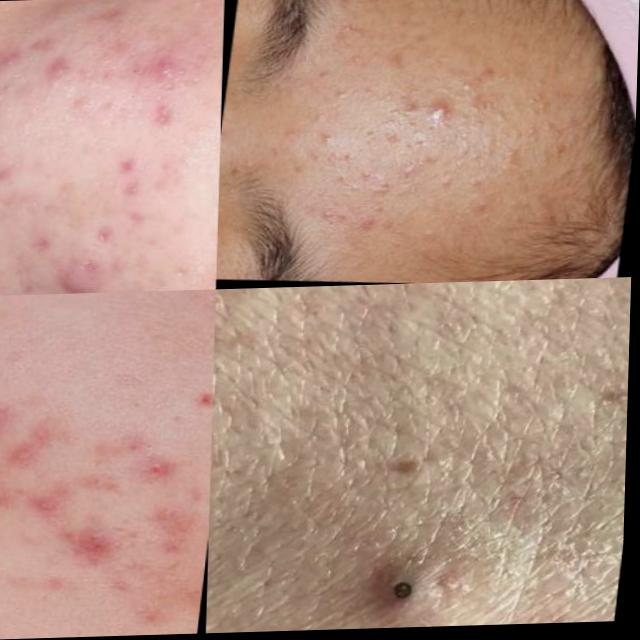7: (185, 0, 225, 15)
8: (124, 44, 207, 107), (44, 518, 119, 567), (126, 457, 187, 495), (414, 102, 457, 128), (29, 491, 70, 516), (0, 485, 13, 514)
blackheads: (81, 150, 170, 248), (0, 155, 32, 187)
dark spot: (368, 554, 454, 629), (515, 91, 549, 125)
pustules: (36, 256, 105, 294)
